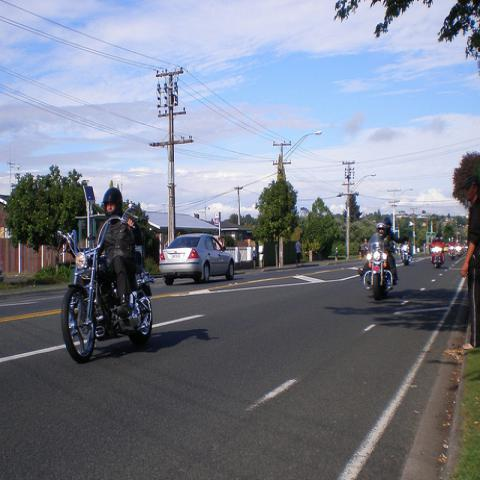car: (160, 234, 237, 285)
motorcycle: (60, 201, 154, 367), (363, 241, 394, 301), (430, 241, 446, 269), (401, 249, 412, 265), (449, 245, 456, 259), (455, 244, 462, 256), (442, 255, 446, 263)
